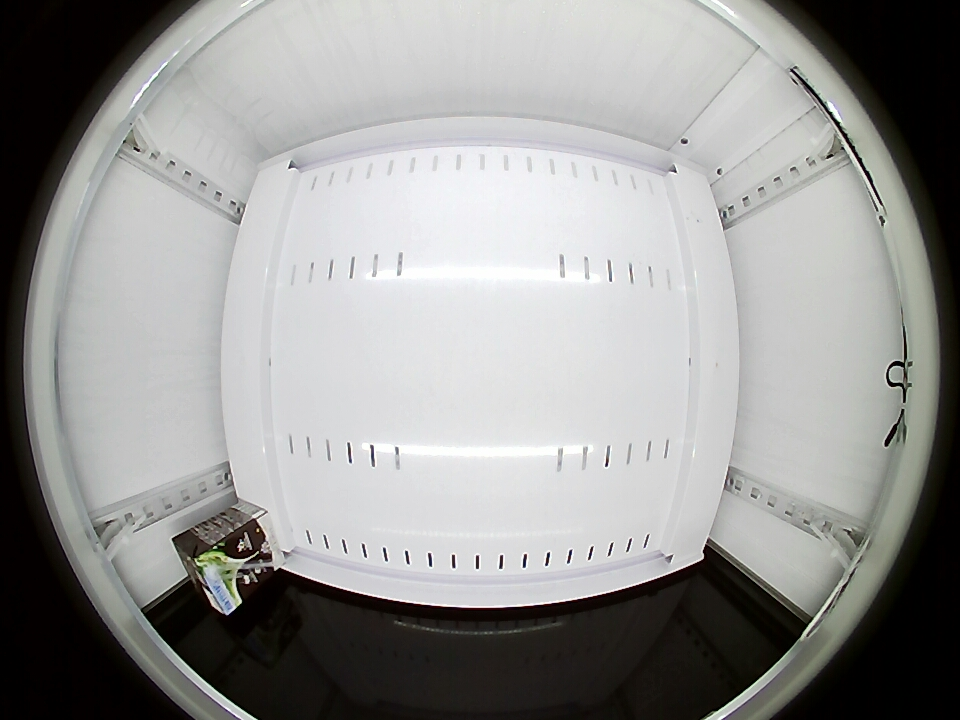weitanai2: (172, 526, 247, 616)
